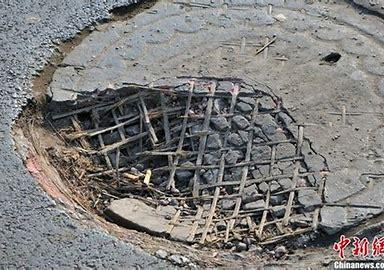wellcover: (20, 1, 384, 253)
